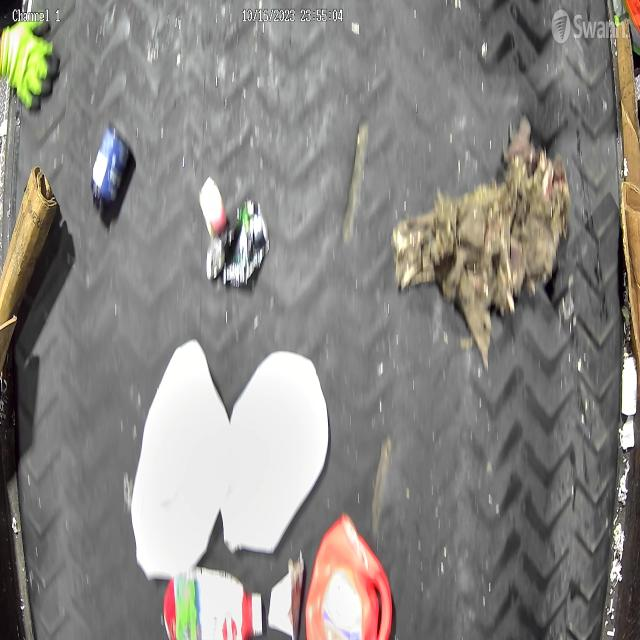can: (206, 195, 269, 289)
milk_jug: (130, 338, 232, 579), (221, 350, 331, 557)
non_white_jug: (301, 509, 398, 640)
